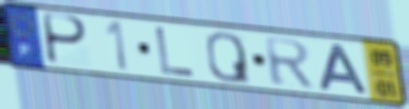1: (104, 20, 131, 74)
A: (317, 42, 371, 97)
L: (152, 24, 198, 79)
P: (43, 11, 91, 68)
Q: (204, 30, 253, 85)
R: (261, 36, 317, 90)
